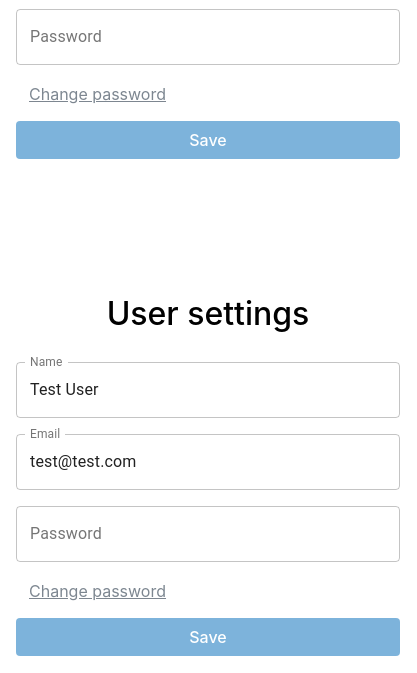
<Settings /> › Email field › Should enable submit button when e-mail field differs from original value
(page scrolled)
Replace the text in the field with id "email" with "different" at (208, 462), box [16, 434, 400, 490]
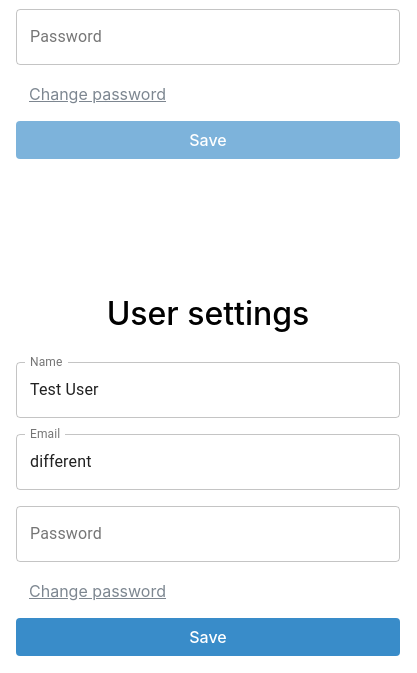
Check: the submit button is enabled, box [16, 618, 400, 656]
